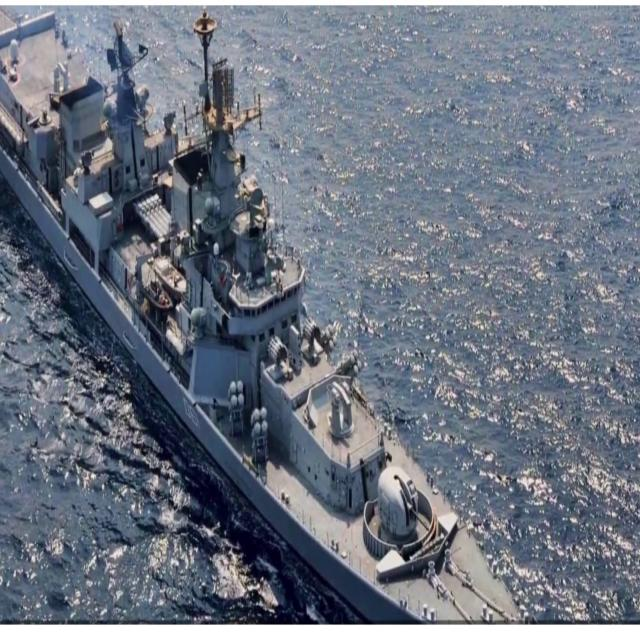OCR: (179, 391, 206, 439)
